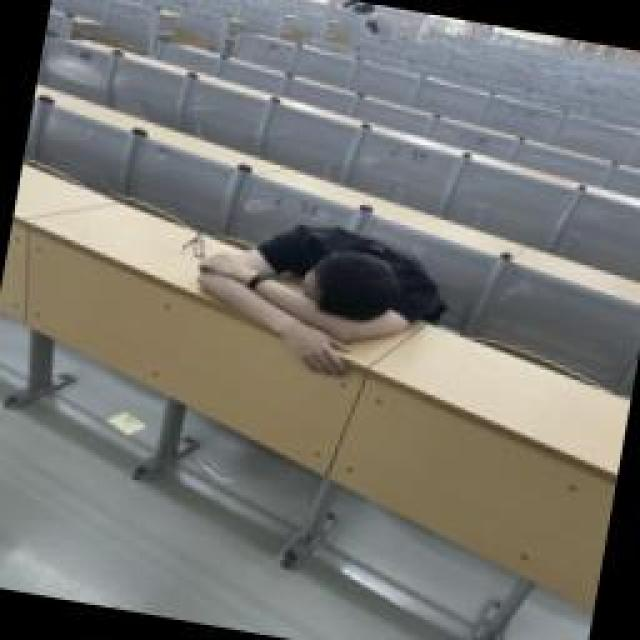sleep: (185, 205, 453, 400)
